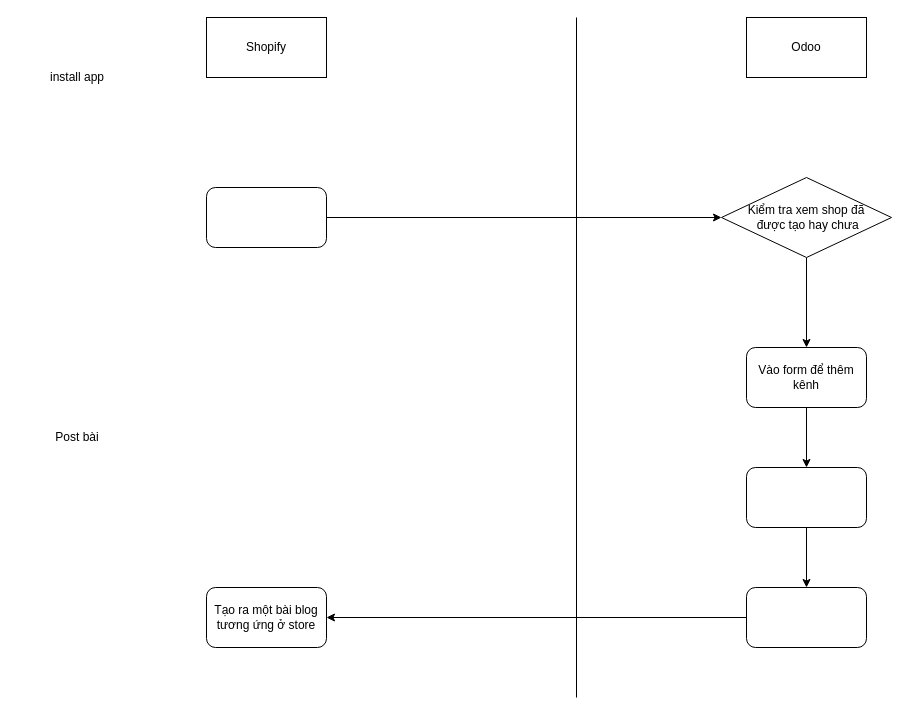
This 909x716 diagram has some shape labels left out. The shapes that lost their labels are listed below. From the top down, each one's centre as x and y in pixels, then its label:
At (266,217): "Install App từ Shopify".
At (806,497): "Tạo mới một bài post".
At (806,617): "Chọn post để đăng bài".
